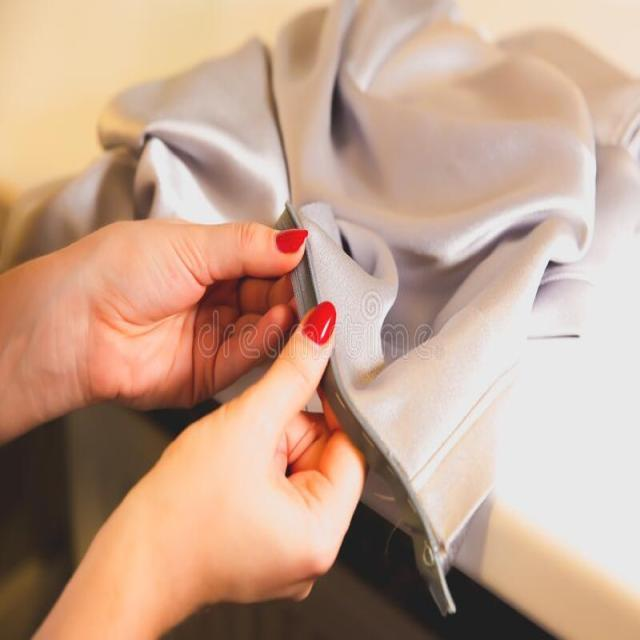clothes: (314, 0, 640, 494)
